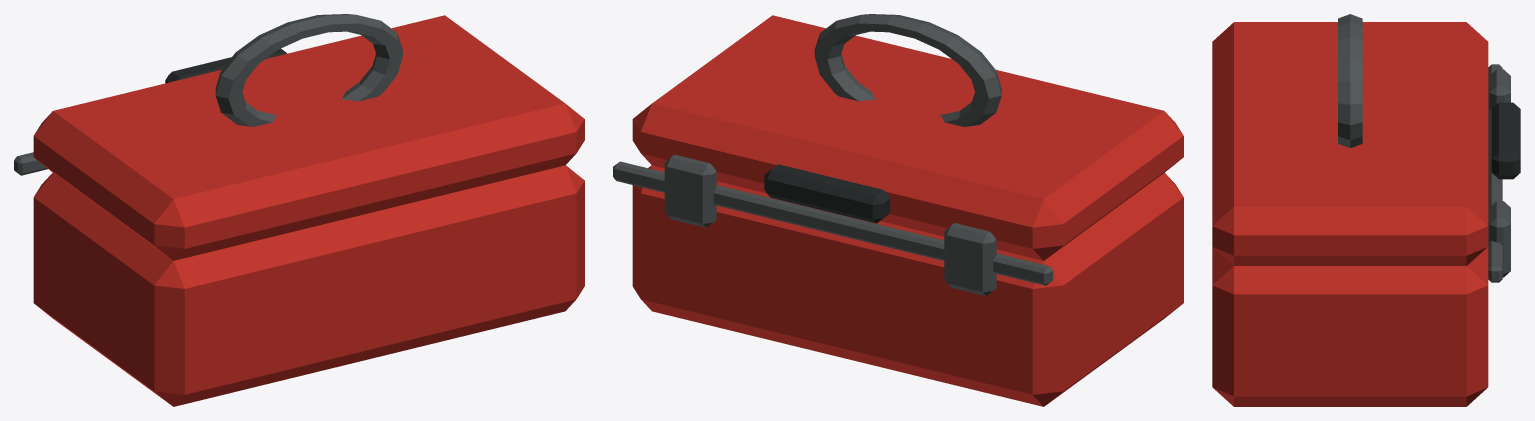
File: item_repair_kit.glb
3 renders of one model, left to right at view 1: azimuth 30°, elevation 25°; view 2: azimuth 150°, elevation 25°; view 3: azimuth 270°, elevation 25°, orthographic. The views are drawn at different scales.
Parts seen in each view (by area): view 1: item_repair_kit; view 2: item_repair_kit; view 3: item_repair_kit.
Part boxes in pixels (<box>): item_repair_kit: <box>14,14,584,406</box>; item_repair_kit: <box>613,14,1183,406</box>; item_repair_kit: <box>1212,14,1520,406</box>.
Size of the model in its own units: 0.405 by 0.2621 by 0.257.
